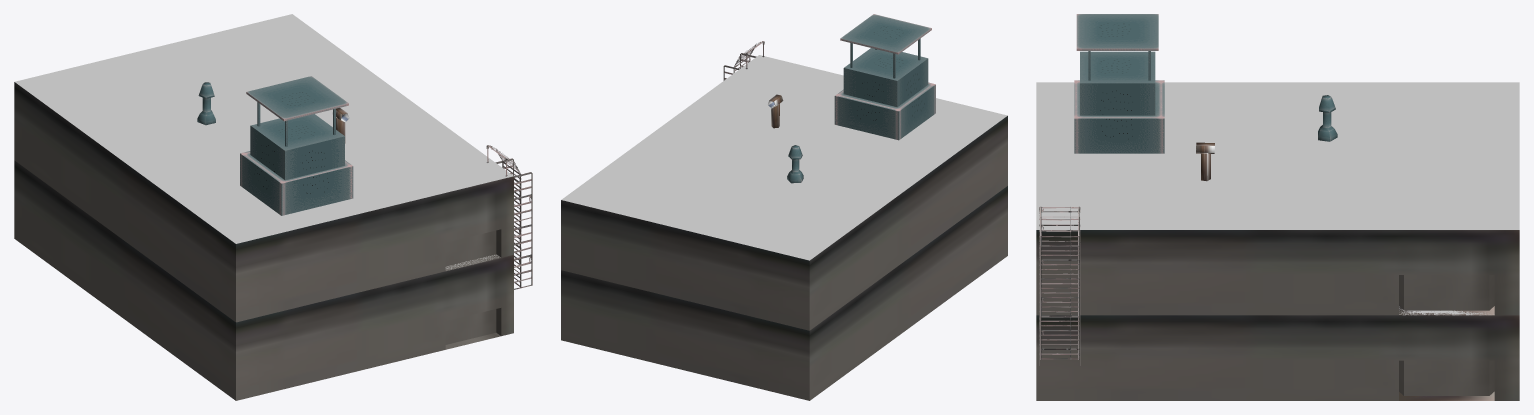
File: yk_katto_huolto-osio.fbx
The picture shows the model from 3 angles, left to right: view 1: azimuth 30°, elevation 25°; view 2: azimuth 150°, elevation 25°; view 3: azimuth 270°, elevation 25°; orthographic projection. The views are drawn at different scales.
Parts seen in each view (by area): view 1: Plane.003; view 2: Plane.003; view 3: Plane.003.
Part boxes in pixels (x1=…): Plane.003: x1=14, y1=14, x2=532, y2=400; Plane.003: x1=561, y1=14, x2=1007, y2=400; Plane.003: x1=1036, y1=14, x2=1519, y2=400.
Bounding box in the file's own units: 491 × 396 × 632.
